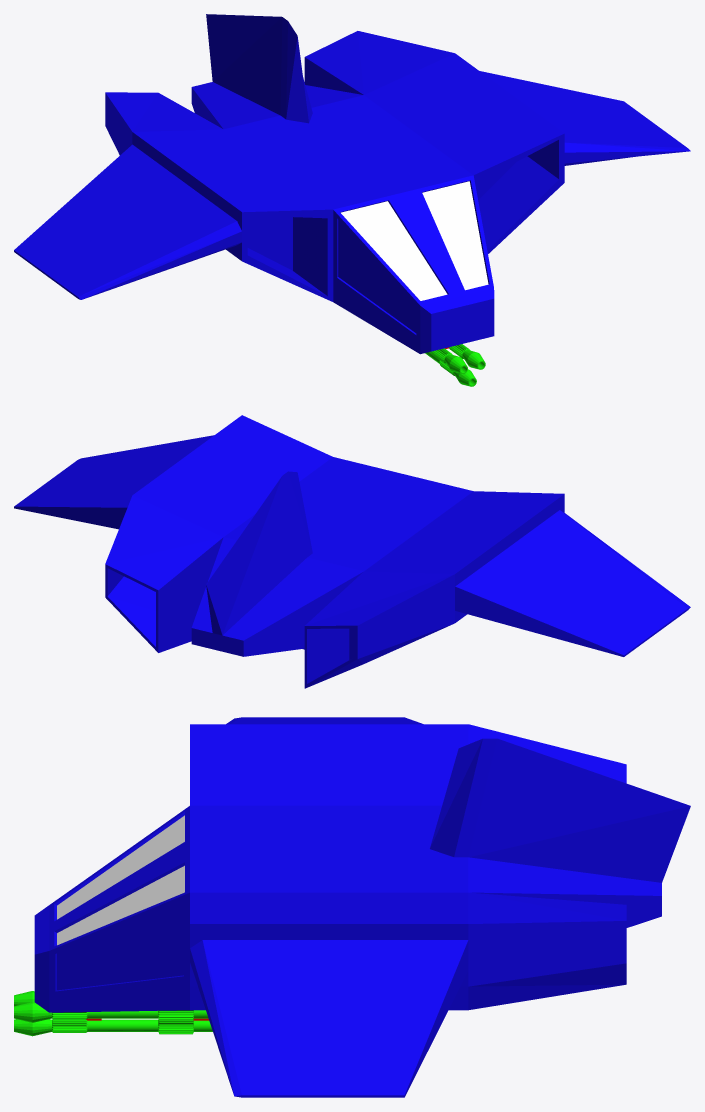
File: ship_new.FBX
3 views of the same model, one above another, from view 1: azimuth 30°, elevation 25°; view 2: azimuth 150°, elevation 25°; view 3: azimuth 270°, elevation 25° (orthographic). The views are drawn at different scales.
Visible parts, largest first — view 1: Box001; view 2: Box001; view 3: Box001, Cylinder003, Cylinder002.
Boxes of the visible parts, left/top/right/bottom form: Box001: left=14, top=14, right=690, bottom=354; Box001: left=14, top=415, right=690, bottom=688; Box001: left=34, top=717, right=690, bottom=1097; Cylinder003: left=14, top=1019, right=212, bottom=1036; Cylinder002: left=14, top=1002, right=208, bottom=1022.
Bounding box in the file's own units: 260 × 197 × 95.05.
